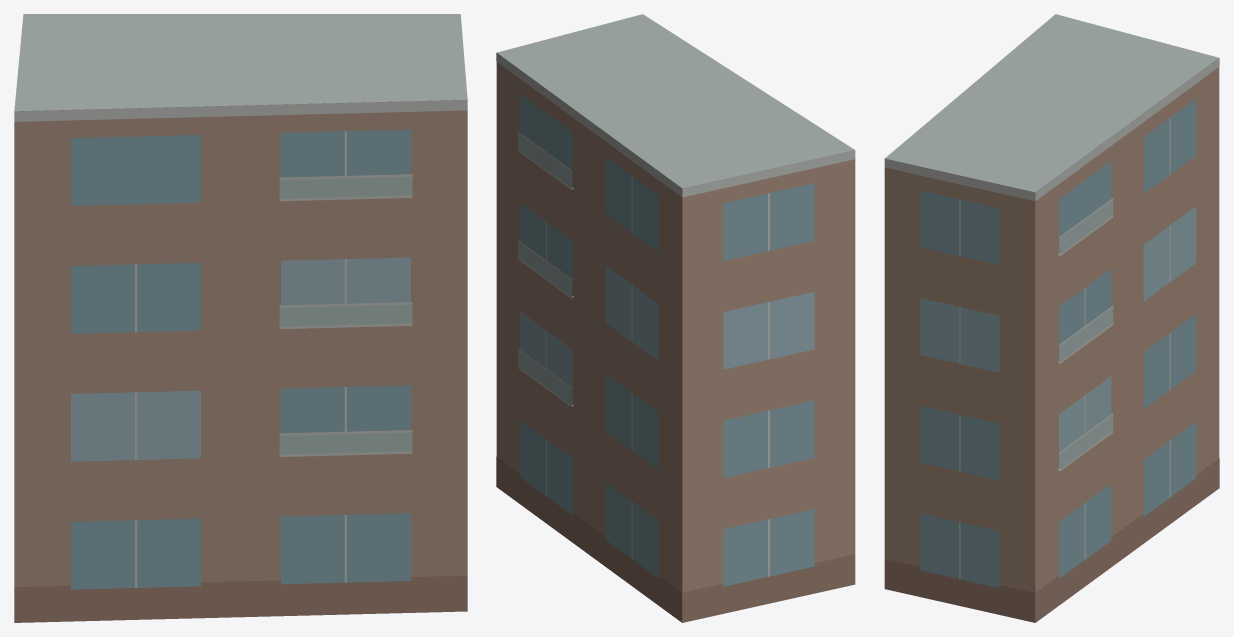
The model's file is survey-upis-32500680.glb.
3 renders of one model, left to right at view 1: azimuth 30°, elevation 25°; view 2: azimuth 150°, elevation 25°; view 3: azimuth 270°, elevation 25°, orthographic. The views are drawn at different scales.
Parts seen in each view (by area): view 1: survey-upis-32500680.tmp; view 2: survey-upis-32500680.tmp; view 3: survey-upis-32500680.tmp.
Boxes of the visible parts, box(x1,y1,x2,y2) form: survey-upis-32500680.tmp: box(14, 14, 467, 622); survey-upis-32500680.tmp: box(496, 14, 855, 622); survey-upis-32500680.tmp: box(884, 14, 1219, 622).
Bounding box in the file's own units: 10.41 × 11.7 × 8.25.
